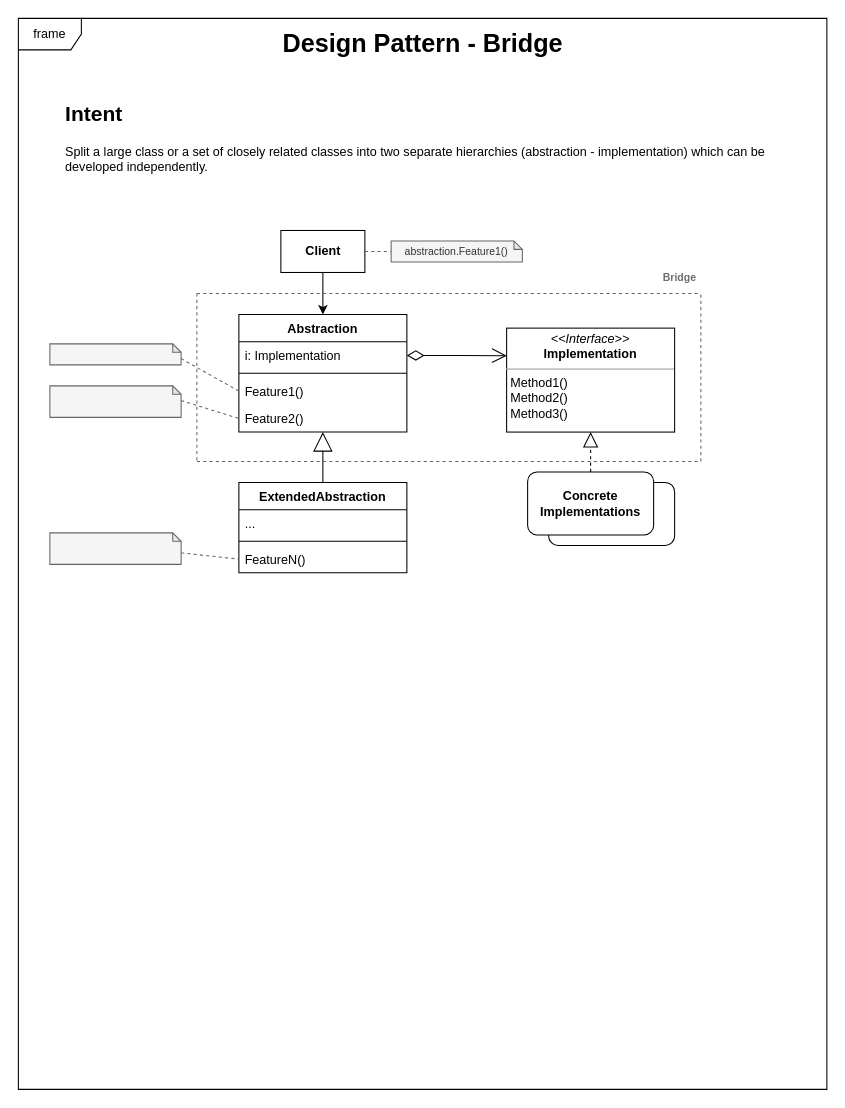
The diagram is 845 pixels wide and 1108 high, and some of its shapes have lost their labels. Here are the shapes that lost their labels. From the top down, the centre of each, then its label:
At (x=115, y=354): "i.Method1()".
At (x=115, y=401): "i.Method2() i.Method3()".
At (x=115, y=548): "i.MethodN() i.MethodM()".
